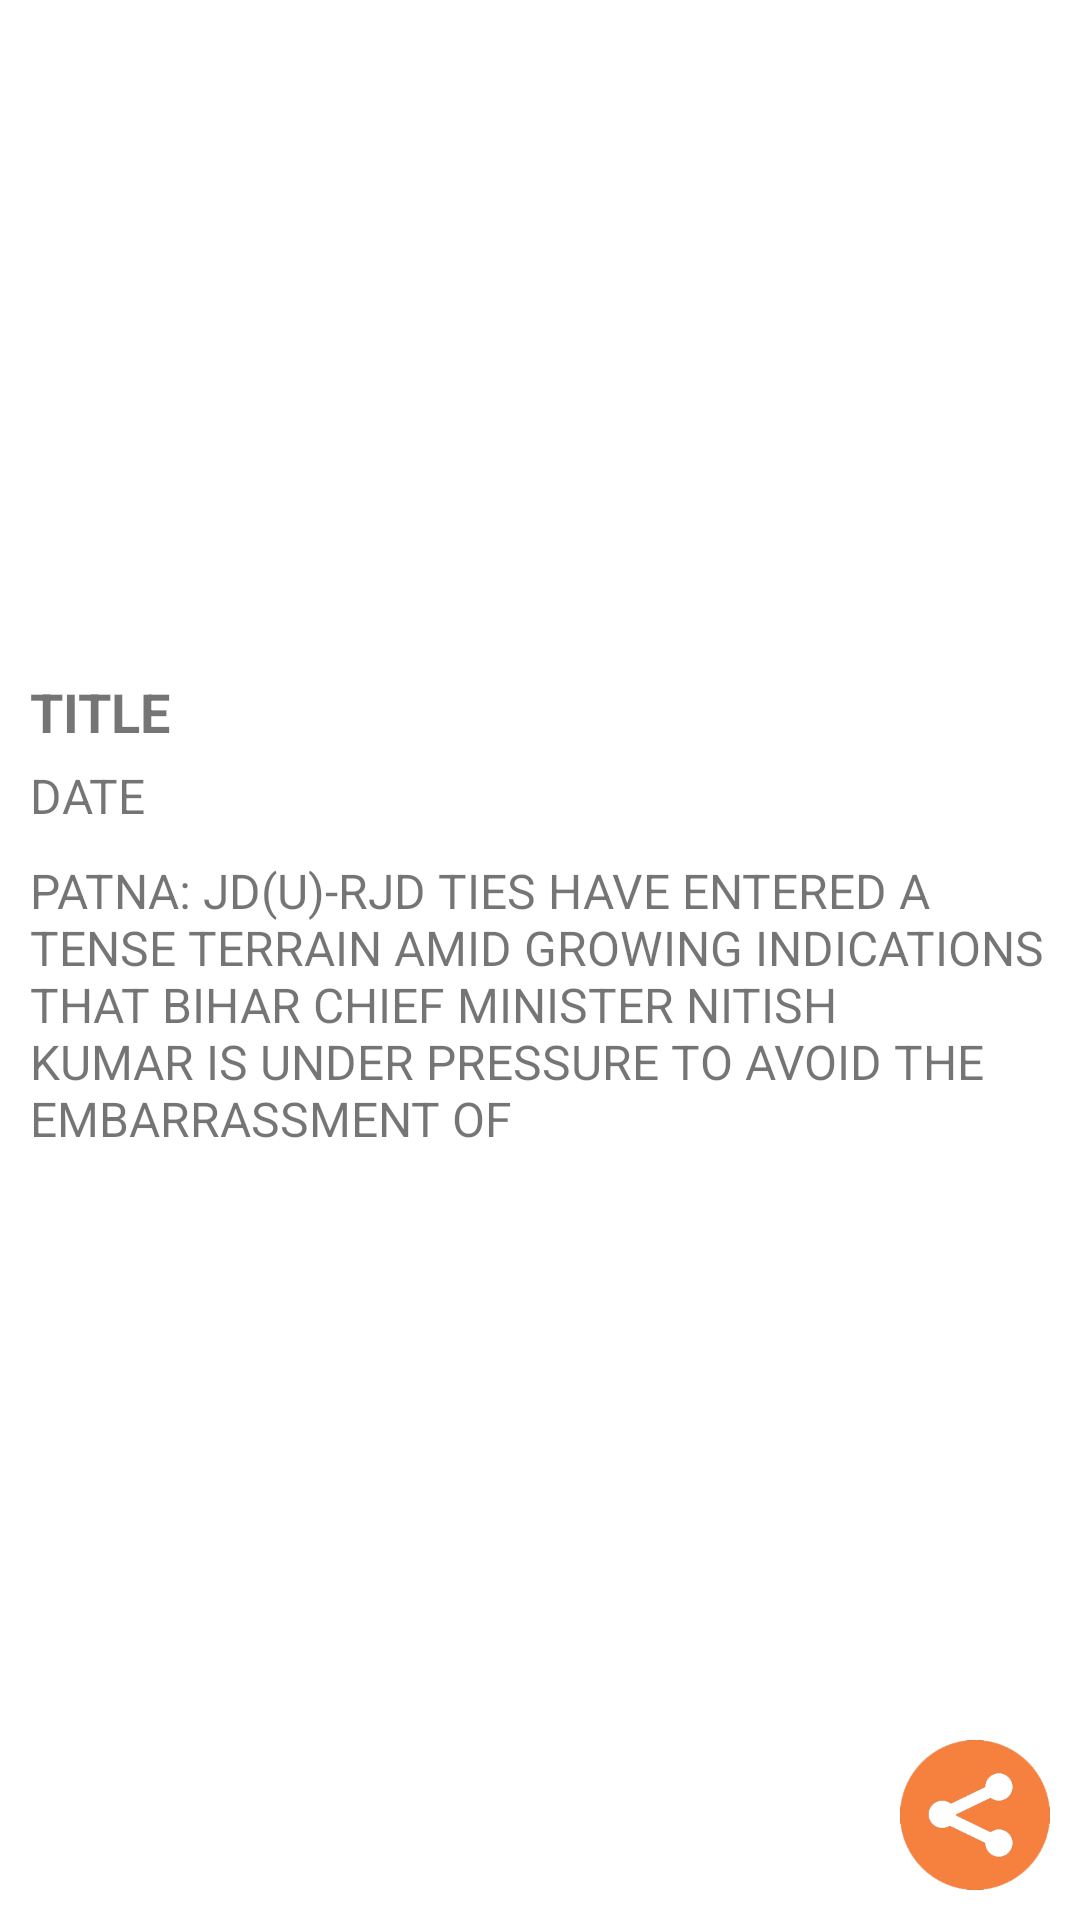

Screen size 1080px x 1920px. Icon name, then its center in pixels as (x=x, y=y):
shareicon: (x=975, y=1815)
